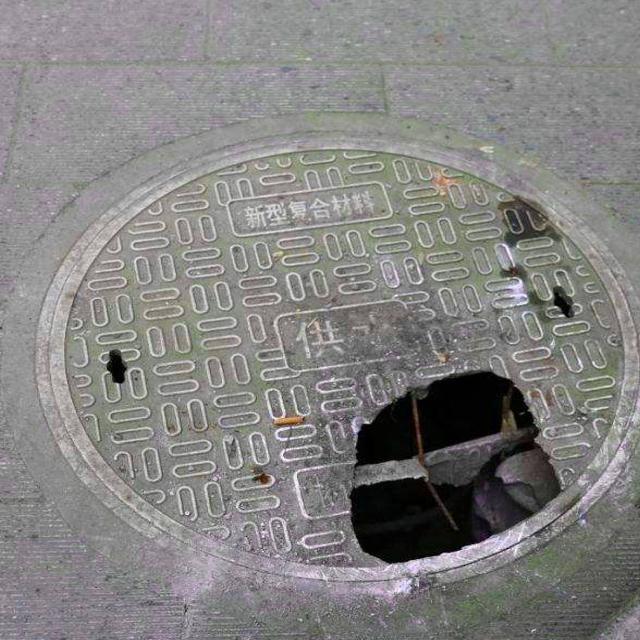broke: (34, 127, 640, 583)
